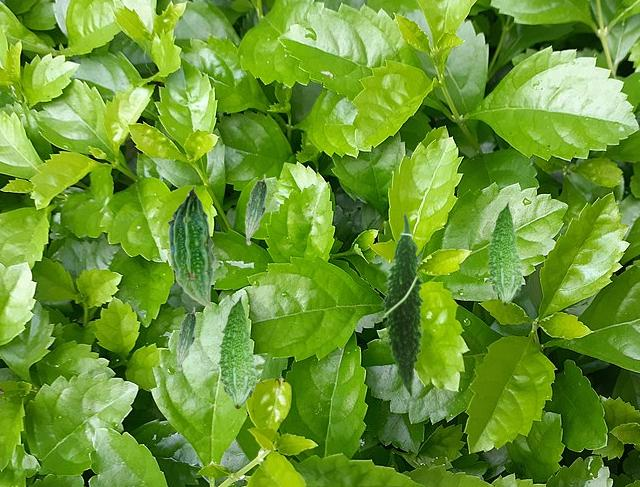ampalaya: (380, 211, 429, 398), (166, 185, 216, 309), (216, 294, 258, 409), (485, 200, 524, 306), (244, 173, 267, 245), (175, 306, 197, 371)
